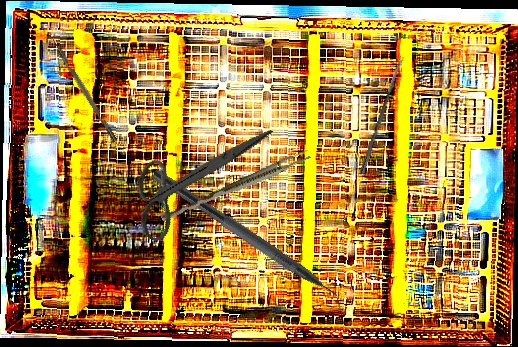Chopper: (142, 168, 355, 320), (43, 32, 118, 146)
Iris Scissors: (117, 88, 274, 267)
Surgical Spoon: (359, 56, 405, 175)
Tissue Forceps: (159, 145, 312, 228)
